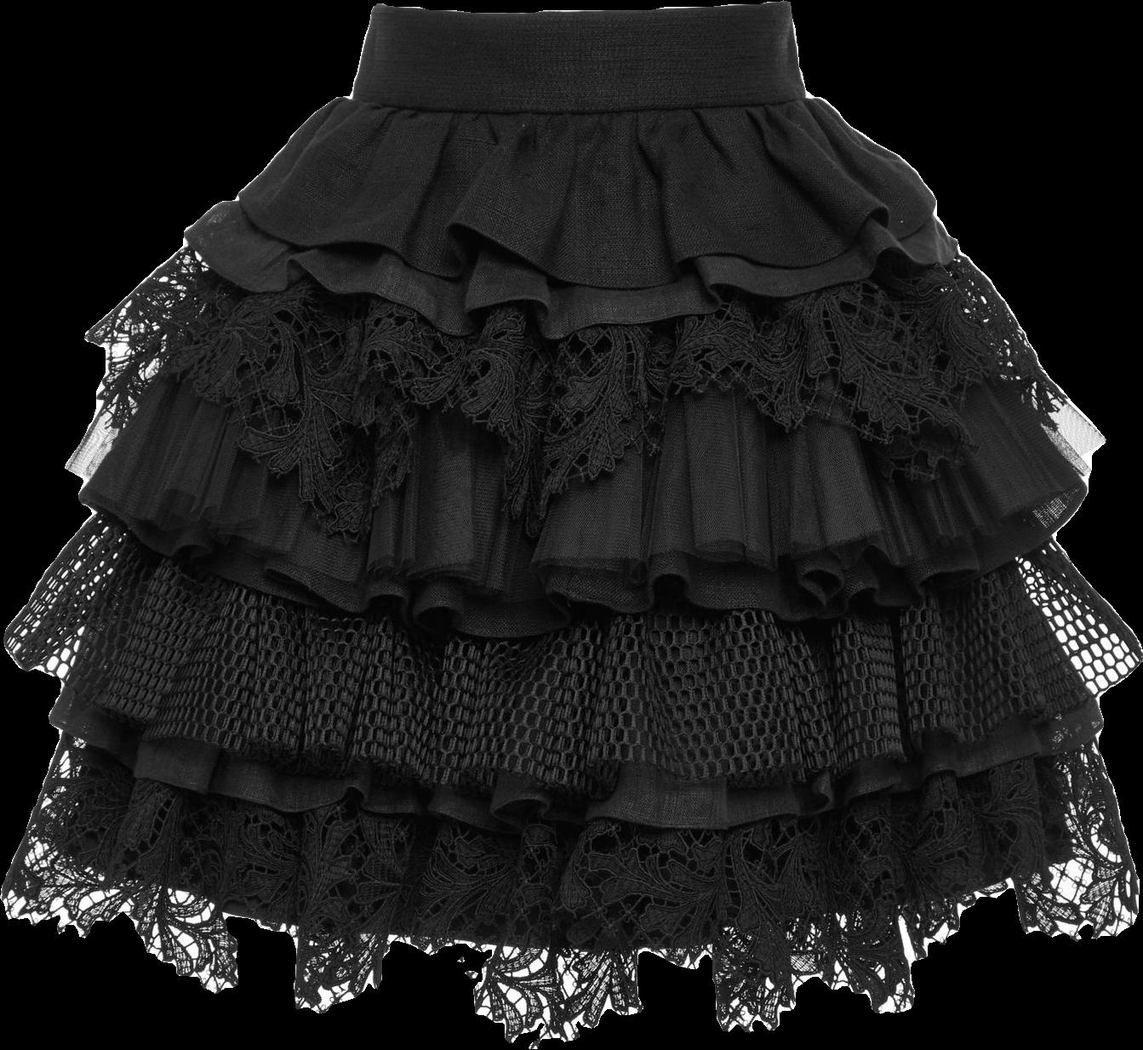Hemline: (0, 631, 1142, 843), (59, 467, 1071, 648), (0, 882, 1142, 1041), (168, 229, 966, 341), (229, 197, 945, 292)
Waistline: (341, 81, 811, 122), (371, 0, 783, 20)
